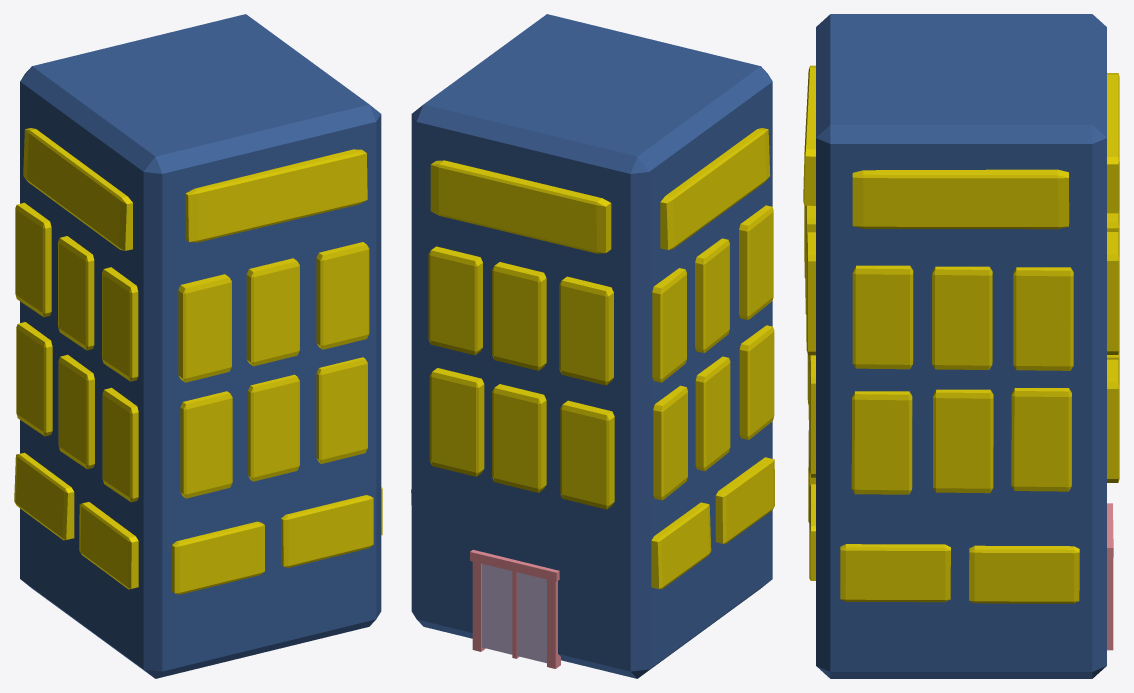
Rendered from building1.fbx.
3 renders of one model, left to right at view 1: azimuth 30°, elevation 25°; view 2: azimuth 150°, elevation 25°; view 3: azimuth 270°, elevation 25°, orthographic. The views are drawn at different scales.
Visible parts, largest first — view 1: Cube.084, Cube.004, Cube.003, Cube.103, Cube.104, Cube.105, Cube.106, Cube.109, Cube.107, Cube.111, Cube.108, Cube.097 (+7 smaller); view 2: Cube.084, Cube.002, Cube.003, Cube.089, Cube.093, Cube.094, Cube.090, Cube.091, Cube.006, Cube.088, Cube.099, Cube.100 (+9 smaller); view 3: Cube.084, Cube.005, Cube.118, Cube.119, Cube.112, Cube.117, Cube.116, Cube.114, Cube.113, Cube.115, Cube.002, Cube.089 (+6 smaller).
Part boxes in pixels (box(x1,y1,x2,y2)): Cube.084: box(20, 14, 381, 678); Cube.004: box(185, 149, 367, 242); Cube.003: box(23, 128, 132, 250); Cube.103: box(178, 274, 231, 382); Cube.104: box(246, 258, 299, 366); Cube.105: box(316, 242, 369, 349); Cube.106: box(180, 391, 232, 498); Cube.109: box(172, 521, 264, 594); Cube.107: box(248, 374, 299, 481); Cube.111: box(281, 495, 373, 567); Cube.108: box(316, 357, 367, 463); Cube.097: box(102, 267, 138, 381); Cube.084: box(411, 14, 772, 678); Cube.002: box(430, 160, 611, 253); Cube.003: box(660, 128, 770, 250); Cube.089: box(429, 368, 484, 476); Cube.093: box(492, 262, 546, 370); Cube.094: box(559, 276, 613, 385); Cube.090: box(492, 384, 546, 492); Cube.091: box(560, 400, 614, 509); Cube.006: box(428, 246, 482, 355); Cube.088: box(482, 564, 546, 663); Cube.099: box(695, 356, 730, 471); Cube.100: box(739, 325, 774, 439); Cube.084: box(816, 14, 1106, 678); Cube.005: box(852, 169, 1069, 229); Cube.118: box(840, 544, 950, 602); Cube.119: box(969, 545, 1079, 603); Cube.112: box(852, 265, 913, 369); Cube.117: box(851, 391, 912, 494); Cube.116: box(933, 389, 993, 493); Cube.114: box(1013, 267, 1073, 370); Cube.113: box(932, 266, 992, 369); Cube.115: box(1011, 388, 1071, 491); Cube.002: box(1107, 73, 1119, 213); Cube.089: box(1107, 359, 1119, 482).
Size of the model in its own units: 488 by 946 by 489.
